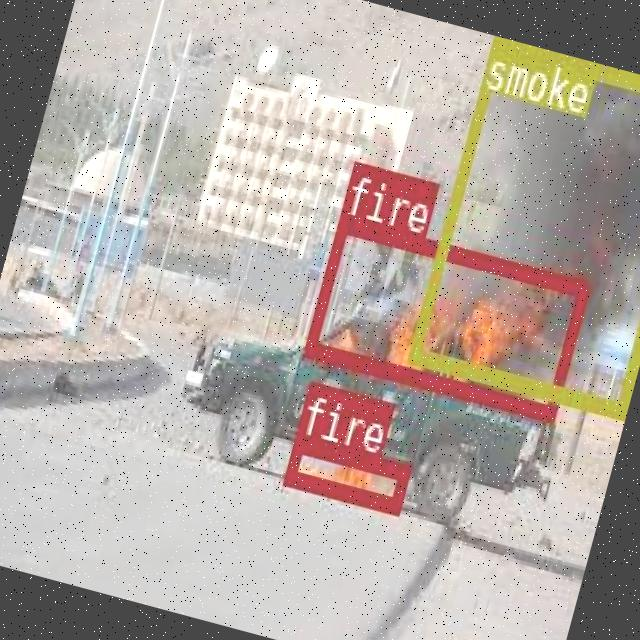fire: (302, 212, 588, 418), (282, 432, 410, 510)
smoke: (405, 34, 640, 413)
